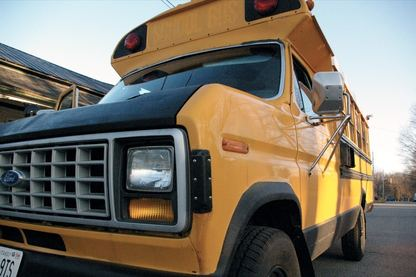bus: (0, 0, 374, 276)
